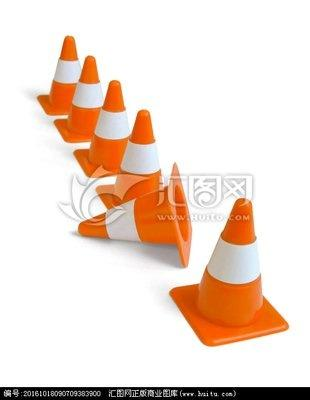cone_barrel: (188, 195, 276, 330), (76, 181, 189, 262), (109, 109, 165, 206), (84, 79, 131, 168), (63, 54, 105, 139), (39, 34, 83, 107)
